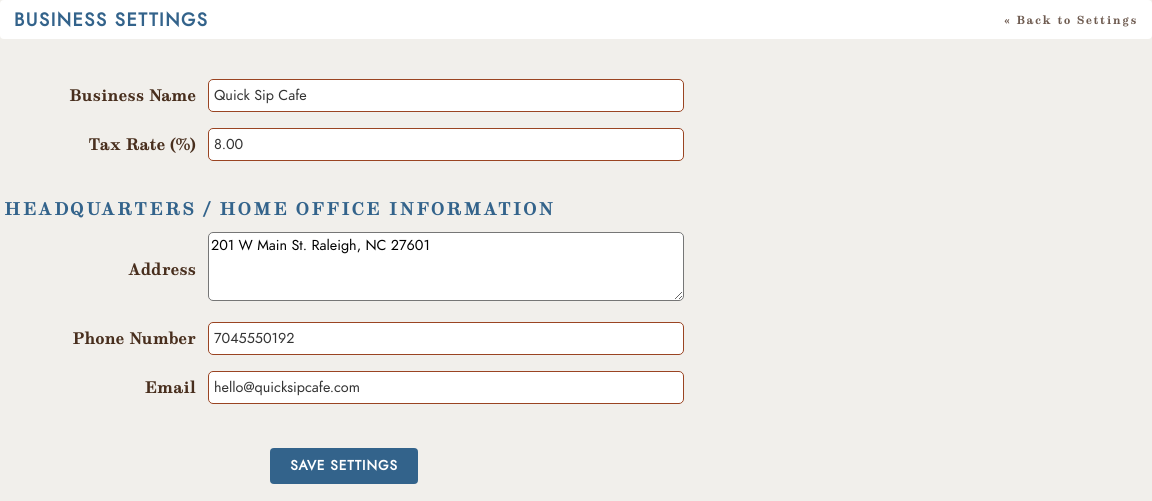
Test: AdminBusinessSettings › saves updated business settings
Step 1. Replace the text in the field labelled "Business Name" with "Updated Cafe" → (446, 96), box [208,79,684,112]
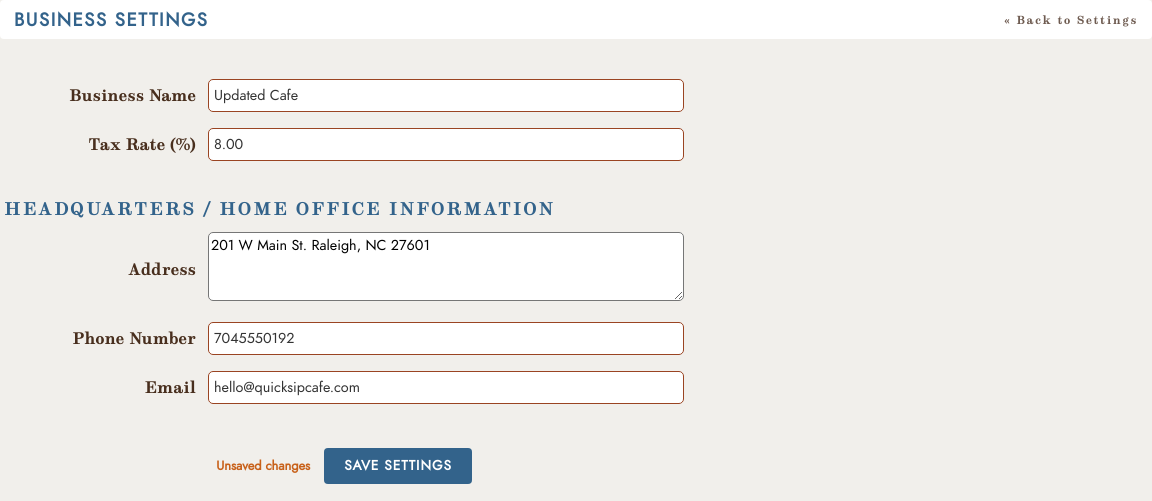
Step 2. Click the button "Save Settings" → (398, 466), box [324,448,472,484]
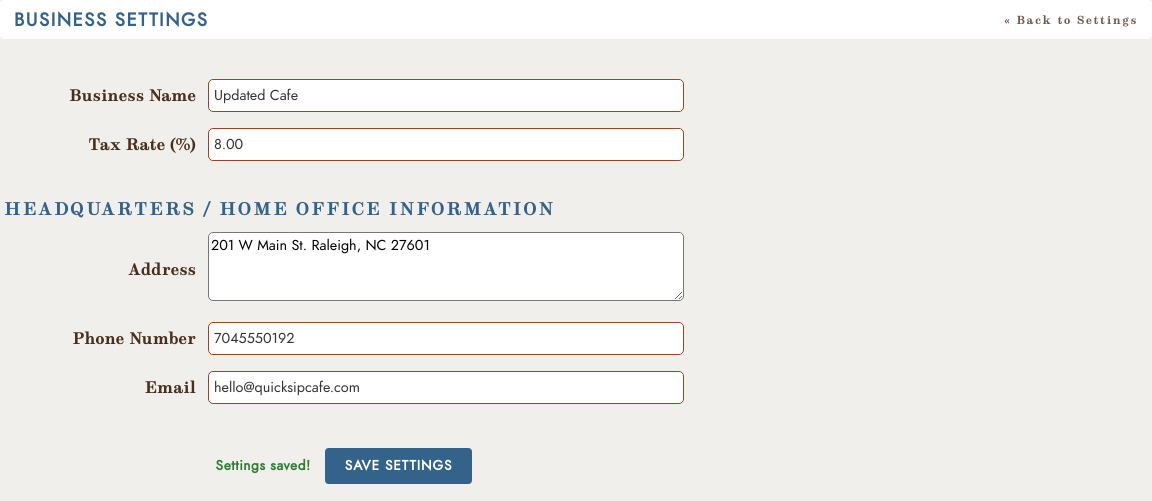
Check: the text "Settings saved!" is shown, box [216,456,311,476]
